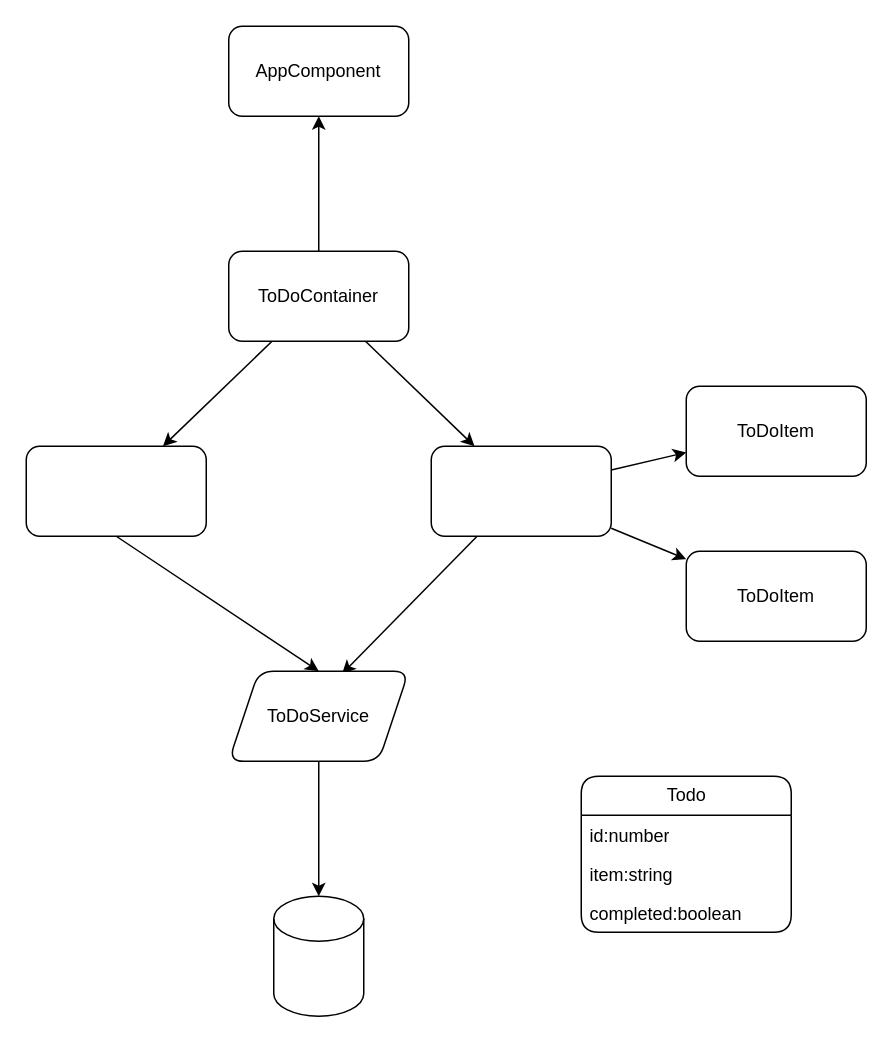
The diagram is 893 pixels wide and 1043 high, and some of its shapes have lost their labels. The shapes that lost their labels are listed below. From the top down, each one's centre as x and y in pixels, then its label:
[115,490]: ToDoForm
[520,490]: TodoList
[318,955]: DB
